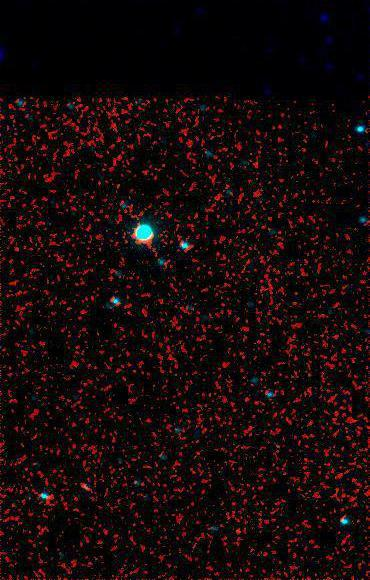star: (223, 514, 253, 544)
